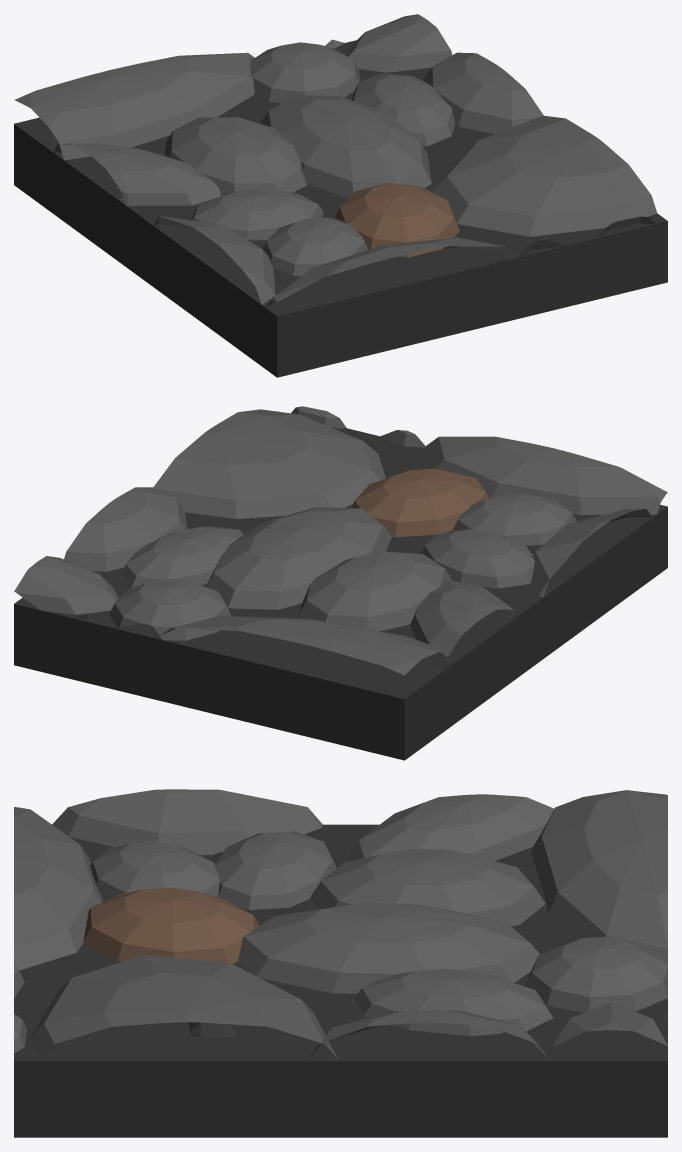
3 views of the same model, one above another, from view 1: azimuth 30°, elevation 25°; view 2: azimuth 150°, elevation 25°; view 3: azimuth 270°, elevation 25° (orthographic). The views are drawn at different scales.
Visible parts, largest first — view 1: shapesz-t151; view 2: shapesz-t151; view 3: shapesz-t151.
Boxes of the visible parts, bbox=[...] form: shapesz-t151: bbox=[14, 14, 667, 377]; shapesz-t151: bbox=[14, 406, 667, 760]; shapesz-t151: bbox=[14, 789, 667, 1137].
Size of the model in its own units: 2 by 0.458 by 2.33.
